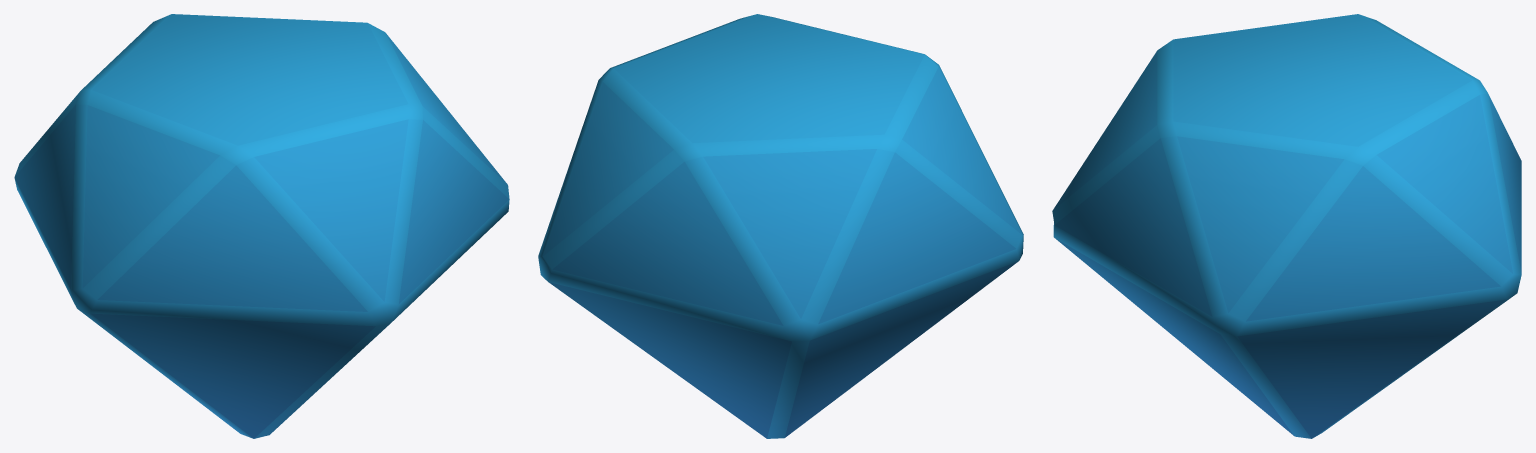
The model's file is diamond-blue.glb.
3 renders of one model, left to right at view 1: azimuth 30°, elevation 25°; view 2: azimuth 150°, elevation 25°; view 3: azimuth 270°, elevation 25°, orthographic.
Visible parts, largest first — view 1: diamond_blue; view 2: diamond_blue; view 3: diamond_blue.
Part boxes in pixels (x1=…): diamond_blue: x1=14, y1=14, x2=509, y2=438; diamond_blue: x1=538, y1=14, x2=1023, y2=438; diamond_blue: x1=1052, y1=14, x2=1521, y2=438.
Bounding box in the file's own units: 1.08 × 0.8522 × 1.03.
1 material, 1 textured.
